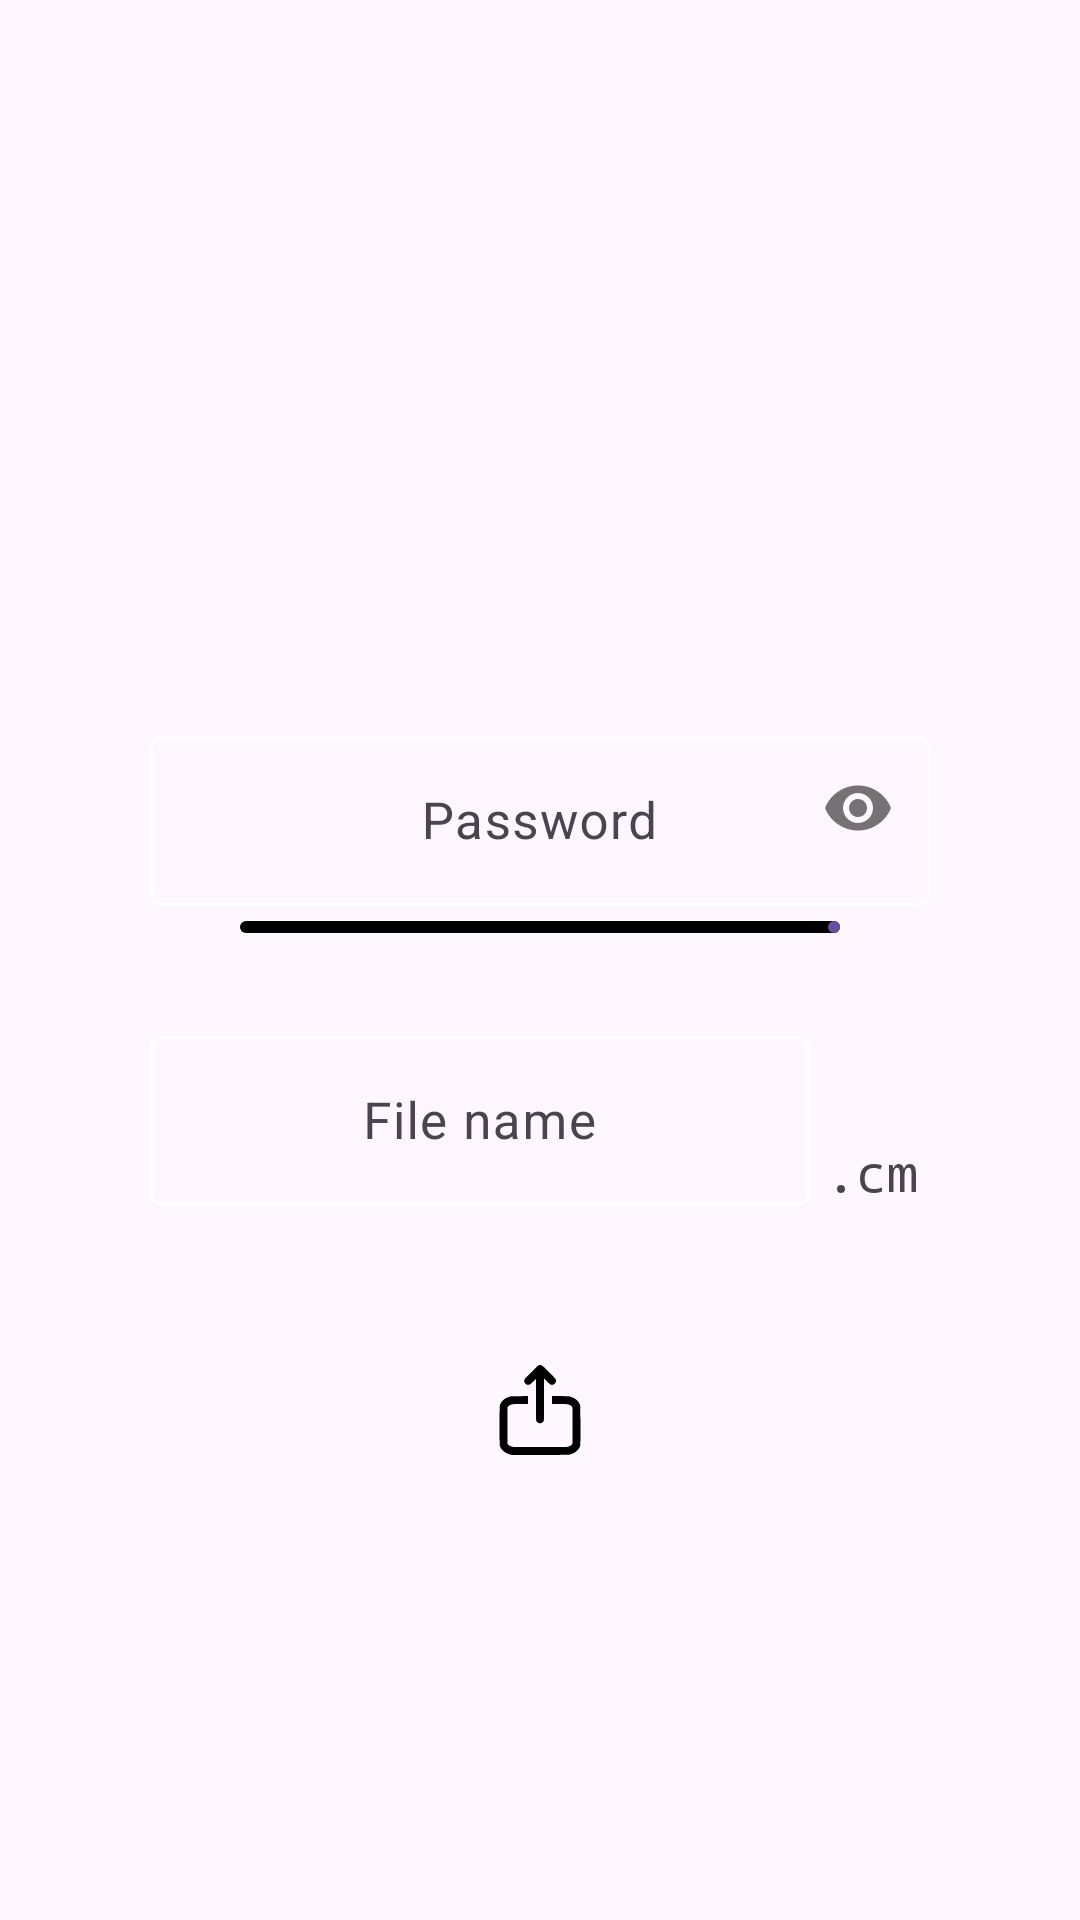

Icons on this 1080*1920 Android screen, each with its box as {"left": x1, "top": y1, "right": x2, "bottom": y2}:
export: {"left": 499, "top": 1365, "right": 581, "bottom": 1455}
